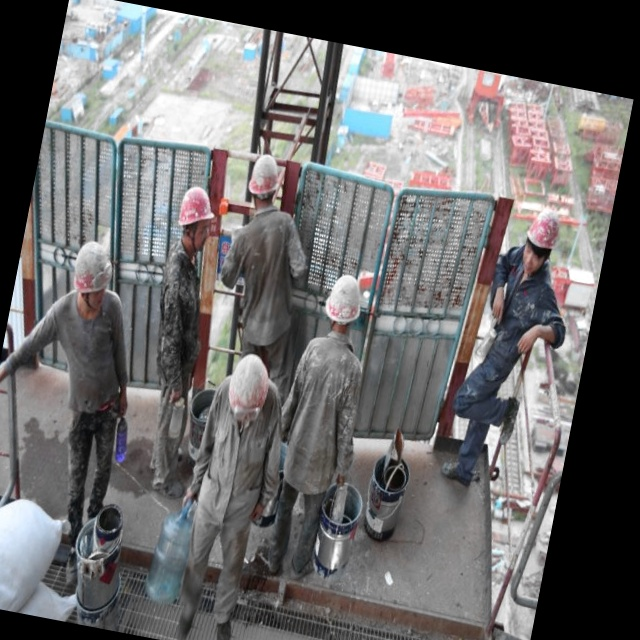Con_Casco: (320, 270, 367, 337), (520, 205, 563, 270), (174, 185, 217, 247)
Sin_Chaleco: (278, 332, 368, 488), (46, 290, 129, 416)
